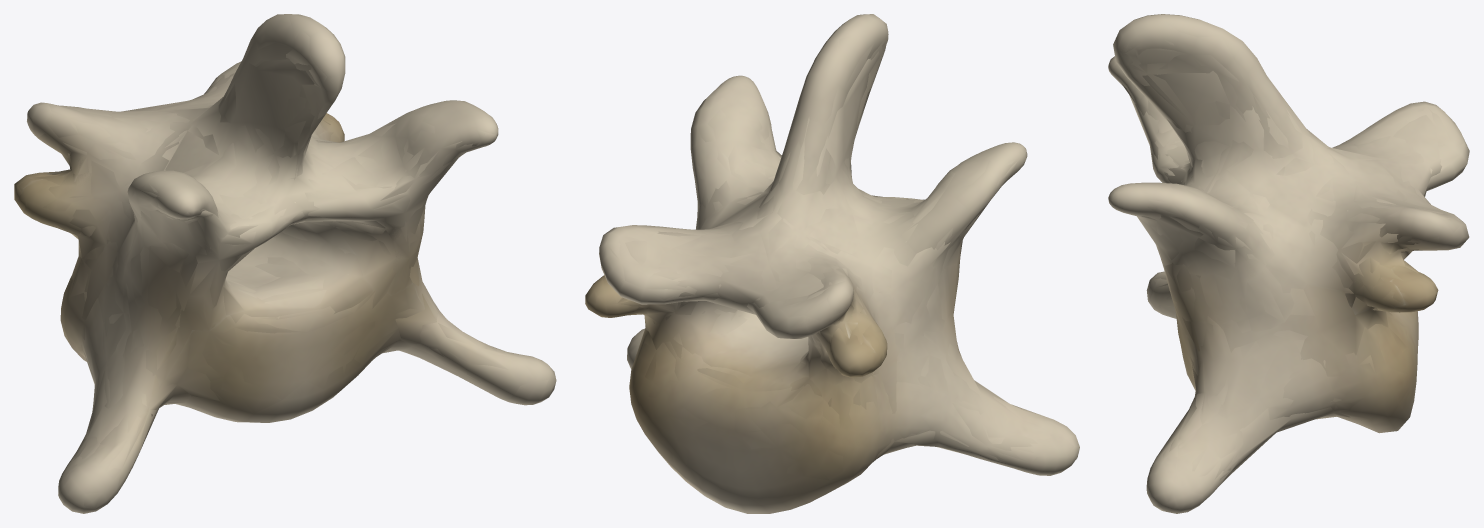
The model's file is vertebrae lumbales 2.fbx.
The picture shows the model from 3 angles, left to right: view 1: azimuth 30°, elevation 25°; view 2: azimuth 150°, elevation 25°; view 3: azimuth 270°, elevation 25°; orthographic projection. The views are drawn at different scales.
Visible parts, largest first — view 1: vertebrae lumbales 2, vertebrae lumbales 2 high, vertebrae lumbales 2 low; view 2: vertebrae lumbales 2 high, vertebrae lumbales 2, vertebrae lumbales 2 low; view 3: vertebrae lumbales 2, vertebrae lumbales 2 high, vertebrae lumbales 2 low.
Part boxes in pixels (left/top/right/bottom): vertebrae lumbales 2: left=14, top=14, right=556, bottom=513; vertebrae lumbales 2 high: left=15, top=14, right=555, bottom=512; vertebrae lumbales 2 low: left=47, top=59, right=507, bottom=460; vertebrae lumbales 2 high: left=587, top=14, right=1078, bottom=512; vertebrae lumbales 2: left=585, top=14, right=1079, bottom=513; vertebrae lumbales 2 low: left=625, top=51, right=1045, bottom=460; vertebrae lumbales 2: left=1108, top=14, right=1469, bottom=513; vertebrae lumbales 2 high: left=1108, top=14, right=1468, bottom=512; vertebrae lumbales 2 low: left=1122, top=71, right=1444, bottom=479.
Size of the model in its own units: 8.06 by 7.05 by 5.68.
